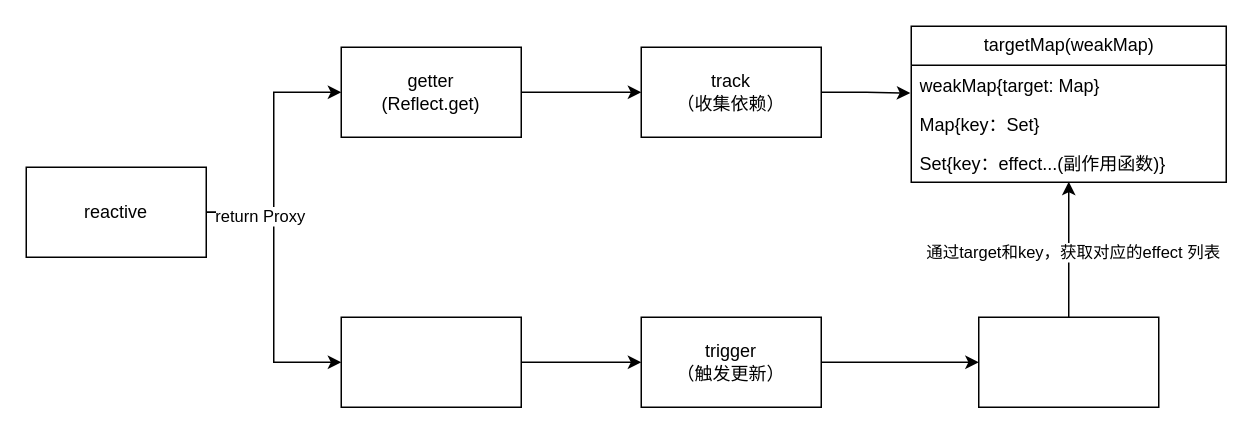
This 1253x434 diagram has some shape labels left out. The centre of each missing label's shape, as x and y in pixels:
"setter (Reflect.set)" belongs at (x=430, y=361).
"批量执行effect" belongs at (x=1068, y=361).
